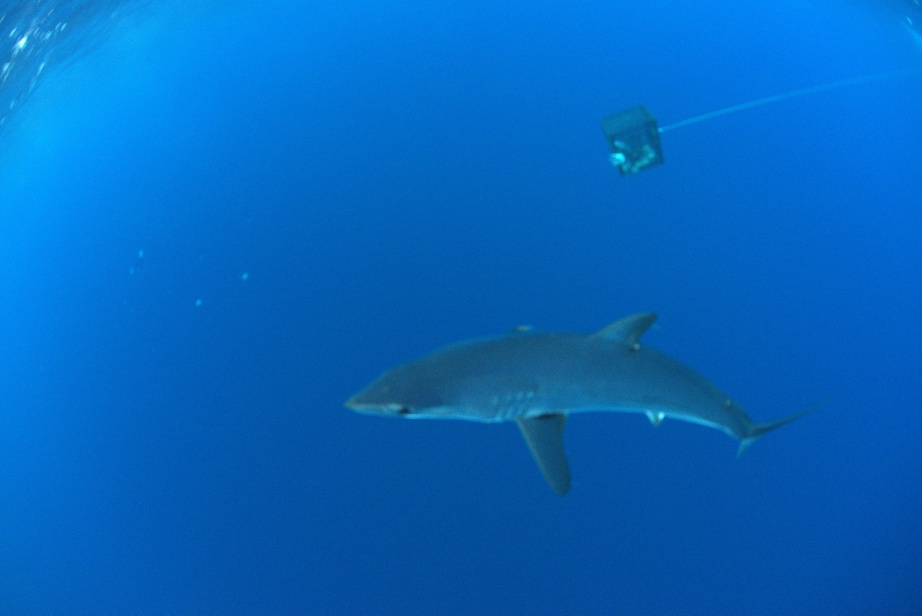Mako: (318, 309, 828, 510)
